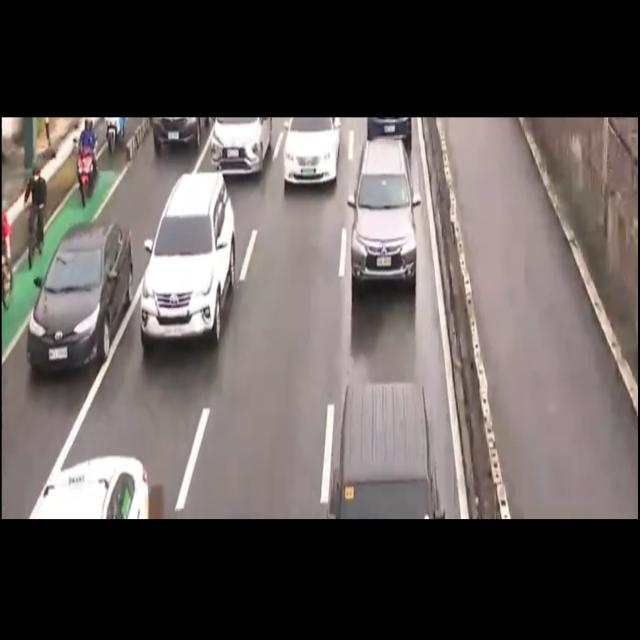Bicycle: (18, 160, 51, 283)
Motorcycle: (72, 115, 99, 209)
SUV: (141, 166, 237, 347), (347, 140, 413, 284)
Sedan: (28, 221, 134, 372), (25, 444, 155, 522), (280, 121, 342, 192)
Van: (328, 381, 441, 520)
